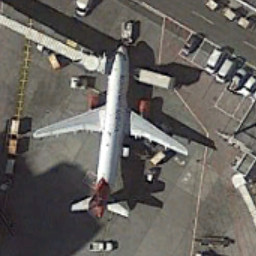Airplane: (26, 40, 193, 228)
